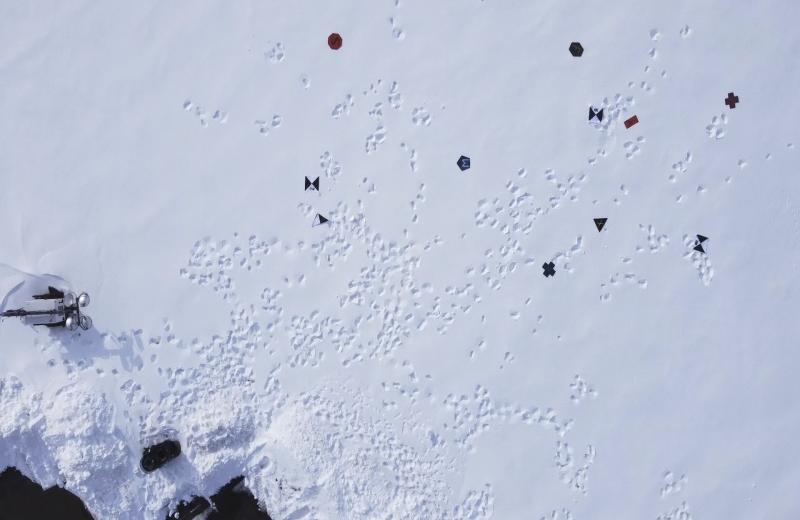Cross: (541, 260, 558, 279), (724, 92, 740, 110)
Hexagon: (568, 41, 584, 60)
Octagon: (326, 32, 344, 52)
Pentagon: (455, 152, 473, 172)
Rectangle: (624, 116, 640, 129)
Triangle: (592, 214, 608, 235)
